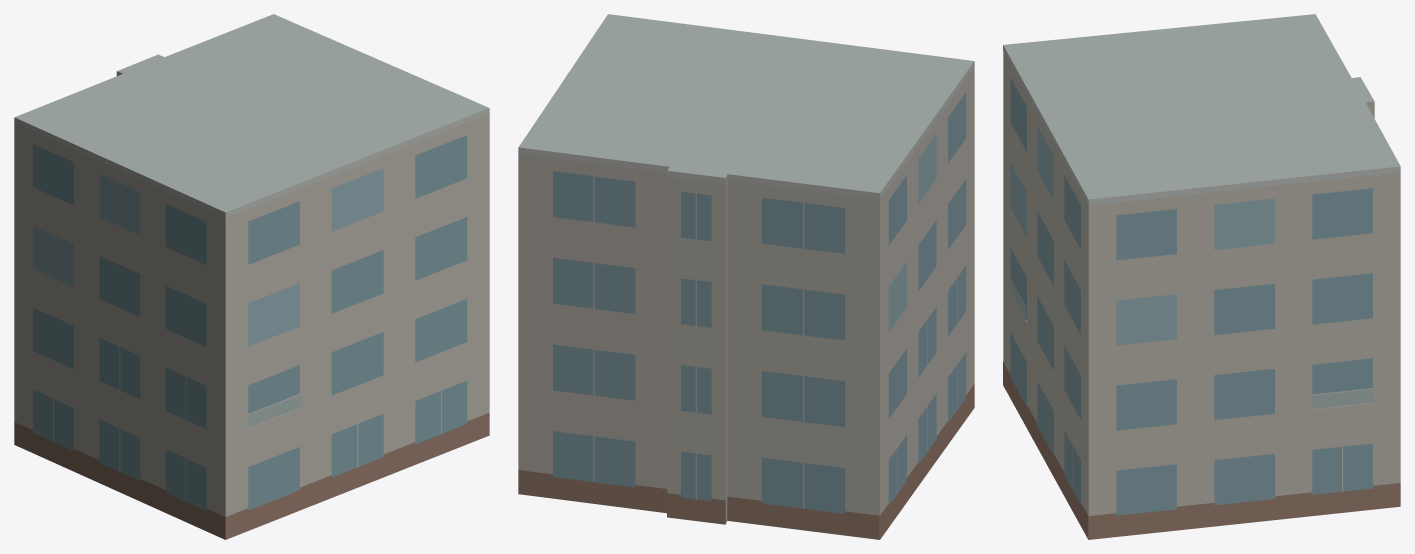
The model's file is survey-upis-32821558.glb.
3 views of the same model, side by side, from view 1: azimuth 30°, elevation 25°; view 2: azimuth 150°, elevation 25°; view 3: azimuth 270°, elevation 25° (orthographic). The views are drawn at different scales.
Parts seen in each view (by area): view 1: survey-upis-32821558.tmp; view 2: survey-upis-32821558.tmp; view 3: survey-upis-32821558.tmp.
Part boxes in pixels (box(x1,y1,x2,y2)): survey-upis-32821558.tmp: box(14, 14, 489, 539); survey-upis-32821558.tmp: box(518, 14, 974, 539); survey-upis-32821558.tmp: box(1003, 14, 1400, 539).
Bounding box in the file's own units: 16.33 × 13.95 × 14.78.
